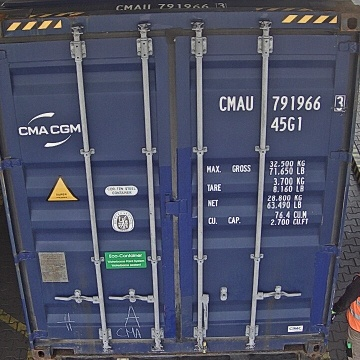serial_id: (220, 95, 345, 111)
